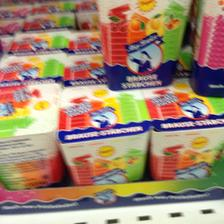Suessigkeit: (61, 82, 147, 190), (144, 81, 220, 187), (99, 1, 185, 91), (0, 86, 62, 190), (189, 0, 223, 88)
